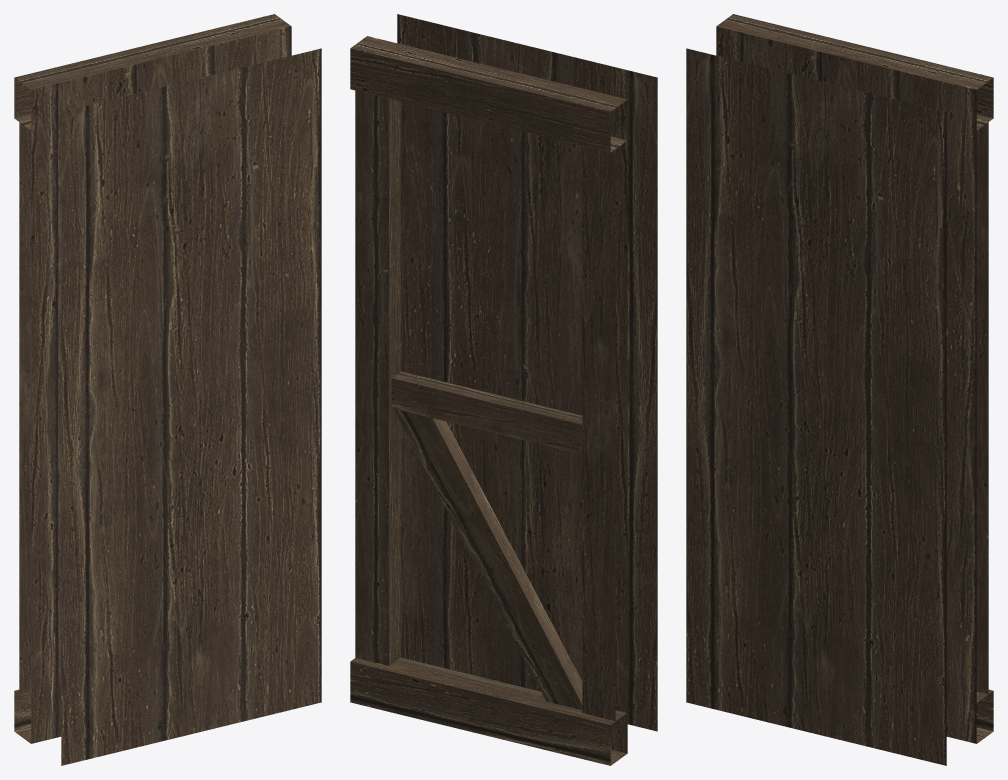
The model's file is ARC1010290.fbx.
The picture shows the model from 3 angles, left to right: view 1: azimuth 30°, elevation 25°; view 2: azimuth 150°, elevation 25°; view 3: azimuth 330°, elevation 25°; orthographic projection.
Parts seen in each view (by area): view 1: smARC1010290; view 2: smARC1010290; view 3: smARC1010290.
Part boxes in pixels (x1=…): smARC1010290: x1=14, y1=14, x2=321, y2=765; smARC1010290: x1=350, y1=14, x2=657, y2=765; smARC1010290: x1=686, y1=14, x2=993, y2=765.
Bounding box in the file's own units: 112 × 268 × 34.9.
Materials: 1 (1 with a texture image).
